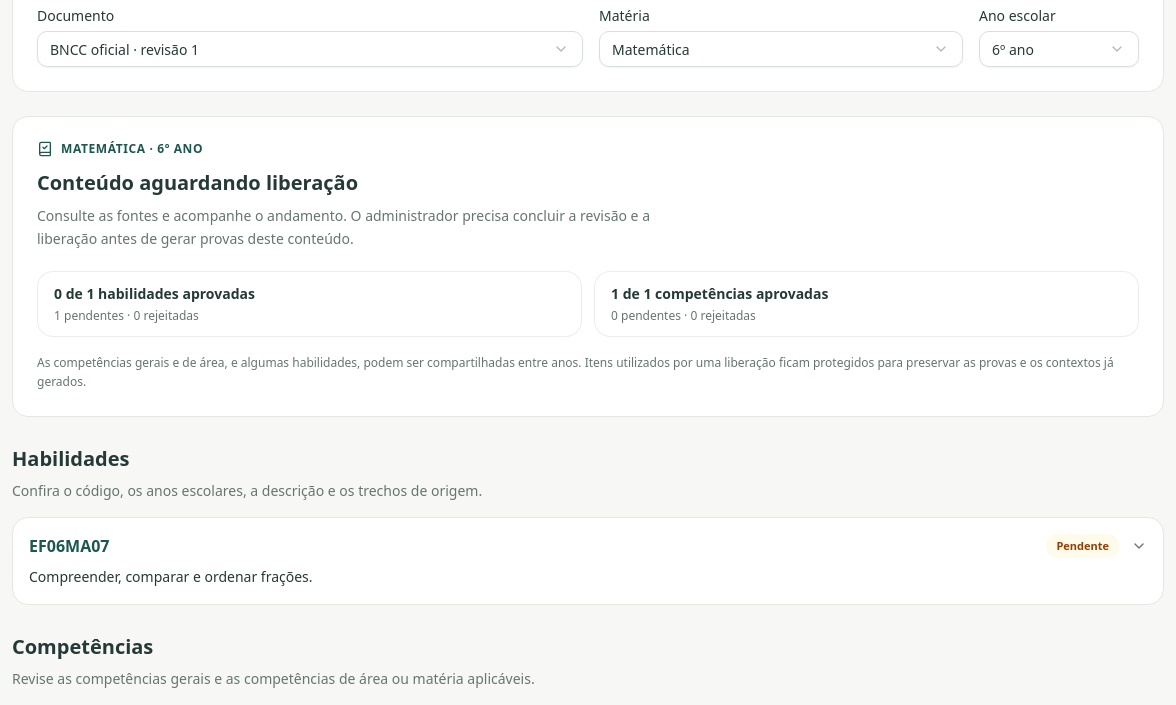
Test case: revisão explícita da BNCC › permite ao professor consultar as fontes sem oferecer aprovação ou liberação
(page scrolled)
Click the button "EF06MA07 Compreender, comparar e ordenar frações. Pendente" at [69, 546], box [13,518,1163,604]
(page scrolled)
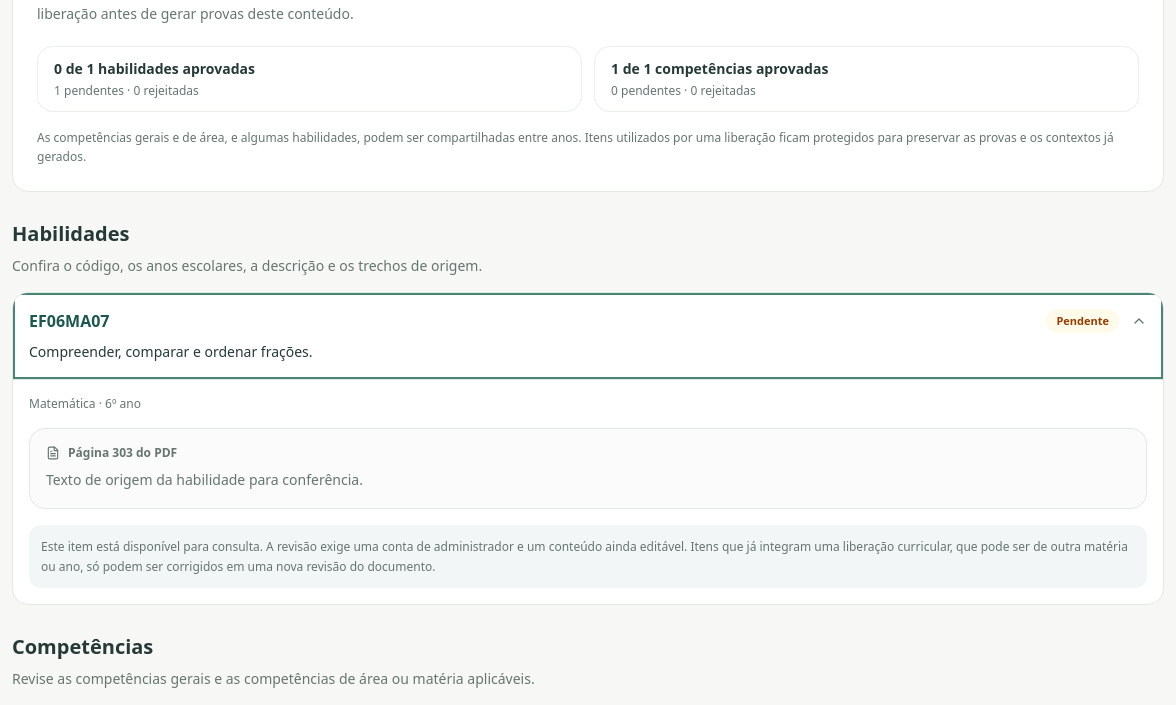
Now the text "Texto de origem da habilidade para conferência." is shown, box [46,470,363,489]
